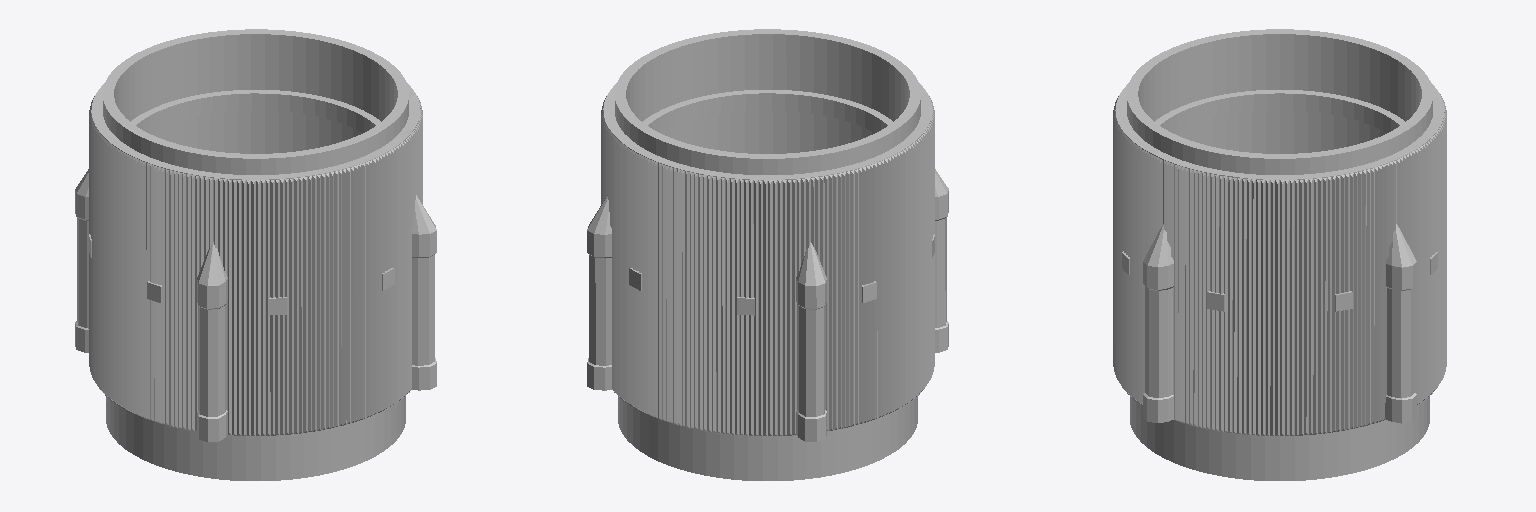
File: stage_1-2_coupler.obj
3 renders of one model, left to right at view 1: azimuth 30°, elevation 25°; view 2: azimuth 150°, elevation 25°; view 3: azimuth 270°, elevation 25°, orthographic.
Visible parts, largest first — view 1: stage_1-2_coupler_v2; view 2: stage_1-2_coupler_v2; view 3: stage_1-2_coupler_v2.
Part boxes in pixels (left/top/right/bottom): stage_1-2_coupler_v2: left=75, top=29, right=436, bottom=480; stage_1-2_coupler_v2: left=587, top=29, right=948, bottom=480; stage_1-2_coupler_v2: left=1113, top=29, right=1446, bottom=480.
Size of the model in its own units: 90.39 by 96.89 by 90.42.